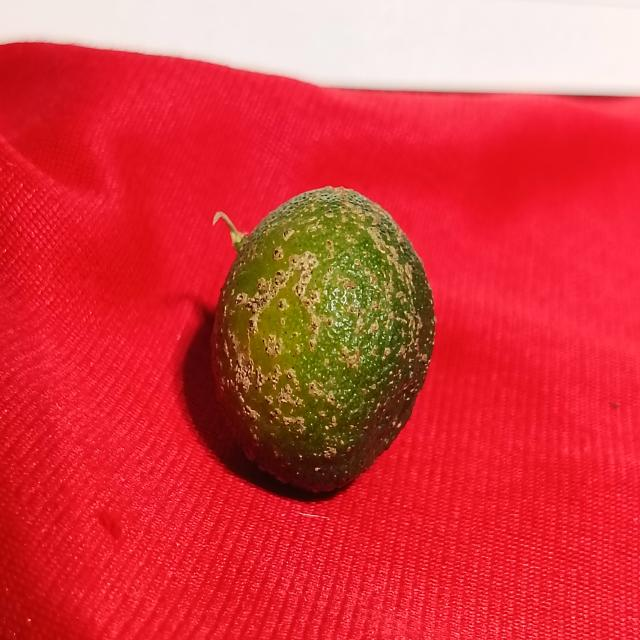scab: (211, 183, 439, 483)
